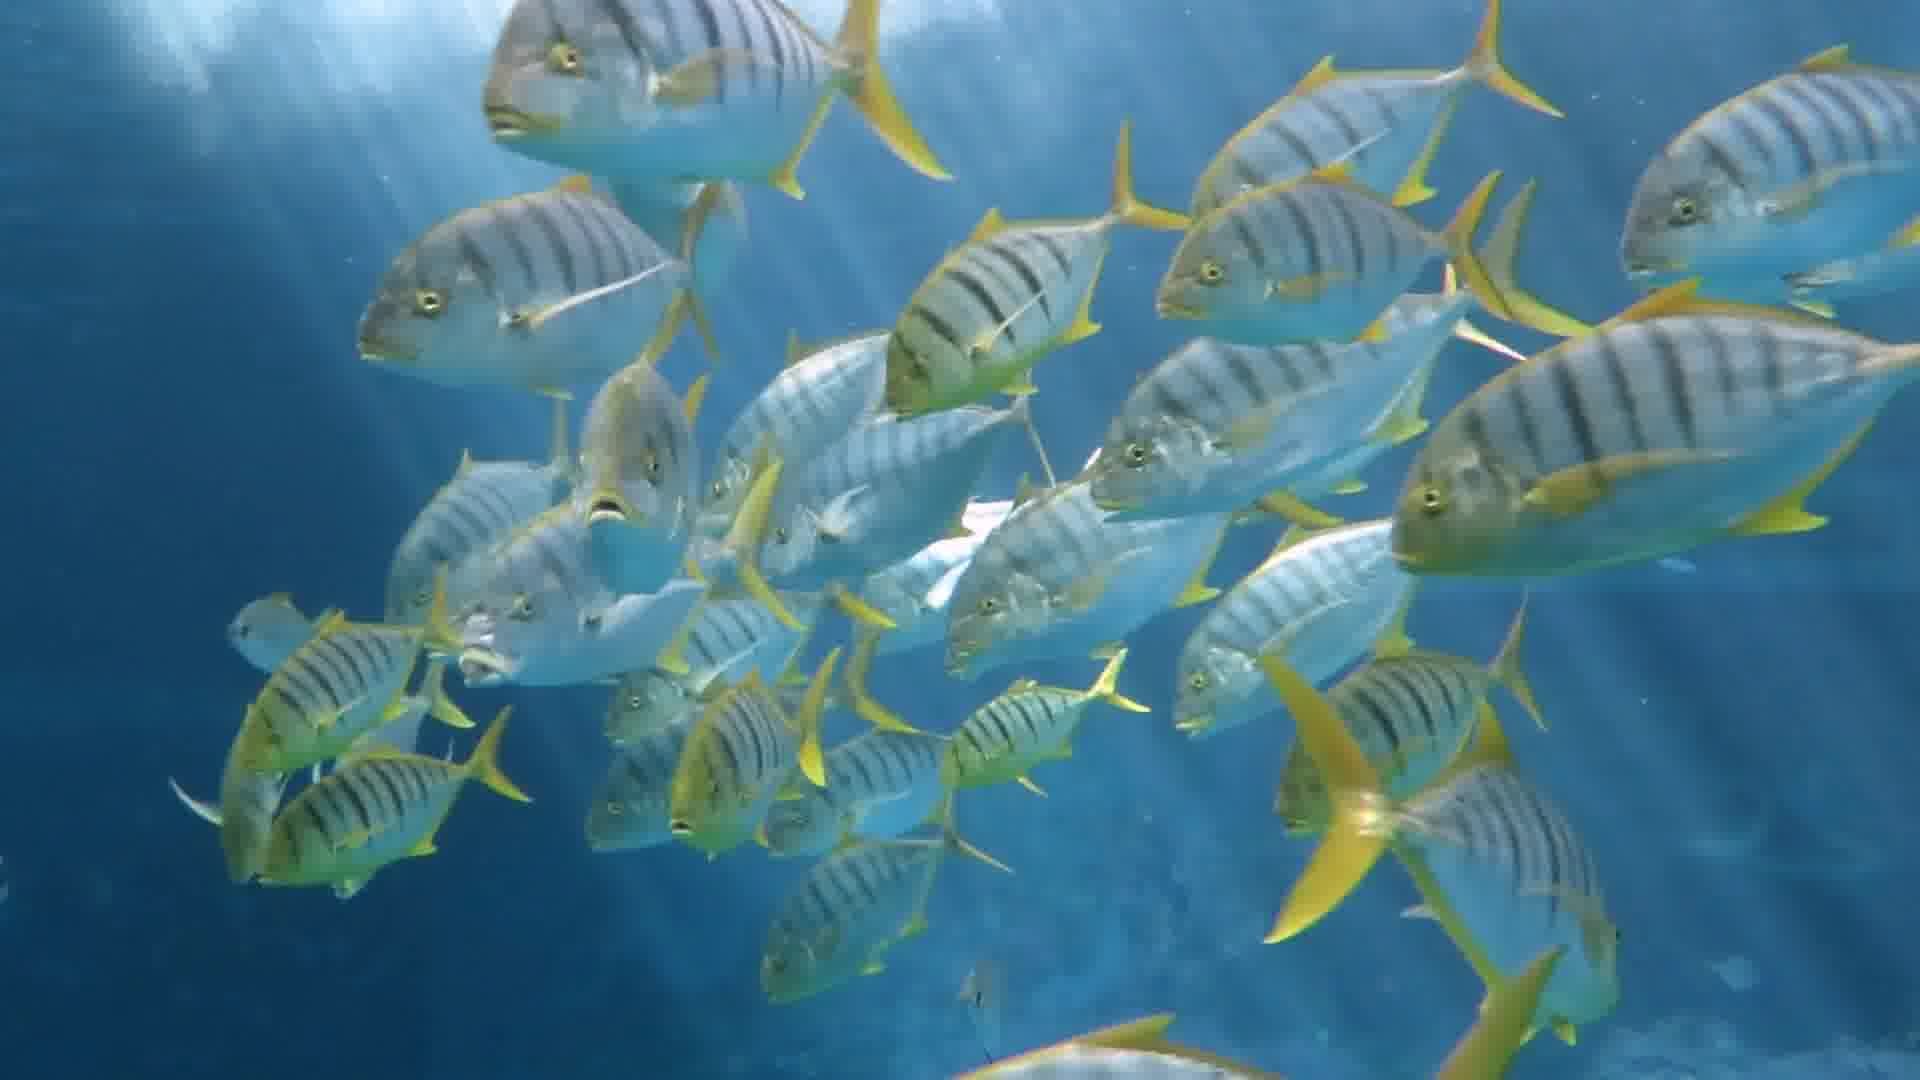Gnathanodon speciosus: (1383, 316, 1869, 568), (1085, 307, 1432, 526), (477, 7, 926, 173), (1604, 46, 1920, 281), (367, 171, 713, 375), (942, 467, 1220, 700), (1166, 533, 1415, 765), (450, 513, 744, 702), (874, 186, 1120, 410), (1149, 187, 1494, 338), (257, 735, 514, 919), (756, 833, 942, 1035), (232, 612, 425, 791), (678, 659, 829, 869), (558, 386, 709, 595)
